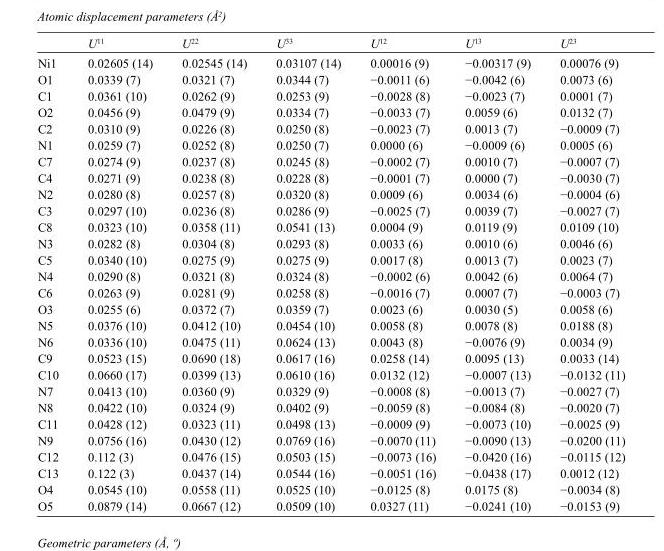table: (36, 36, 624, 512)
table column: (354, 36, 449, 512), (449, 36, 544, 512), (72, 36, 166, 512), (166, 36, 260, 512), (260, 36, 354, 512), (544, 36, 624, 512), (36, 36, 72, 512)
table column header: (36, 36, 624, 53)
table row: (36, 53, 624, 71), (36, 36, 624, 53), (36, 103, 624, 120), (36, 136, 624, 153), (36, 185, 624, 202), (36, 218, 624, 235), (36, 251, 624, 268), (36, 300, 624, 317), (36, 333, 624, 350), (36, 382, 624, 399), (36, 415, 624, 432), (36, 464, 624, 481), (36, 71, 624, 87), (36, 87, 624, 103), (36, 120, 624, 136), (36, 153, 624, 169), (36, 169, 624, 185), (36, 202, 624, 218), (36, 235, 624, 251), (36, 268, 624, 284), (36, 284, 624, 300), (36, 317, 624, 333), (36, 350, 624, 366), (36, 366, 624, 382), (36, 399, 624, 415), (36, 432, 624, 448), (36, 448, 624, 464), (36, 481, 624, 497), (36, 497, 624, 512)
